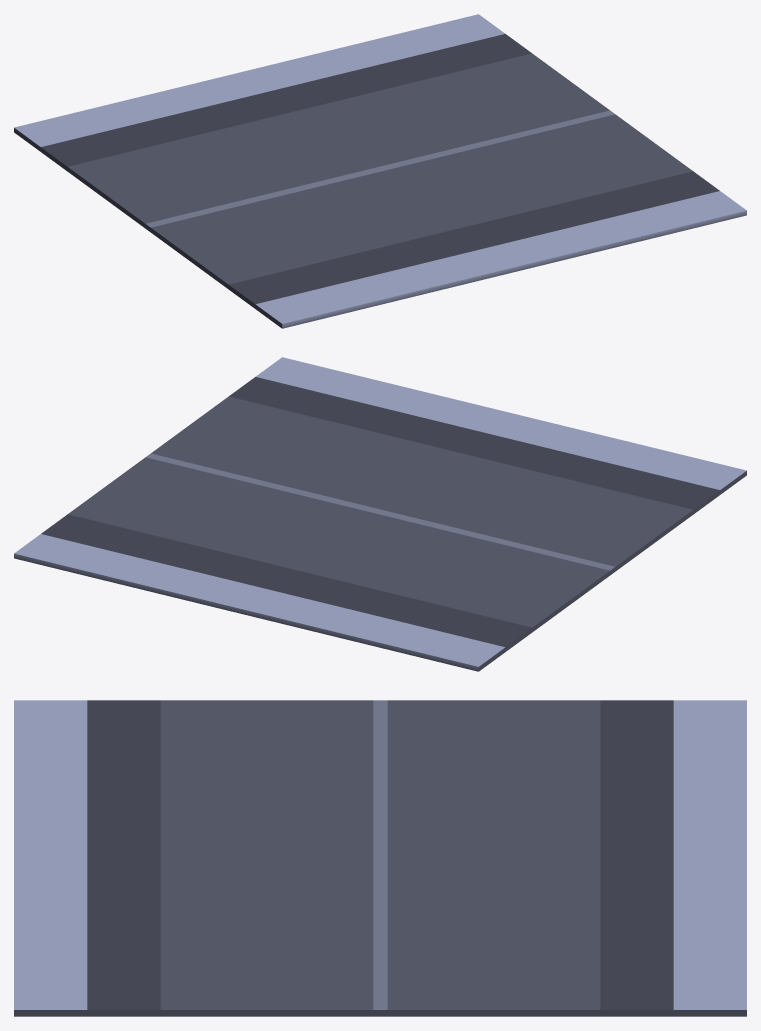
Rendered from road-level-crossing.glb.
The picture shows the model from 3 angles, top to bottom: view 1: azimuth 30°, elevation 25°; view 2: azimuth 150°, elevation 25°; view 3: azimuth 270°, elevation 25°; orthographic projection. The views are drawn at different scales.
Visible parts, largest first — view 1: road-straight; view 2: road-straight; view 3: road-straight.
Part boxes in pixels (x1,y1,x2,y2): road-straight: [14, 14, 746, 328]; road-straight: [14, 357, 746, 671]; road-straight: [14, 700, 746, 1016].
Size of the model in its own units: 1 by 0.01 by 1.
